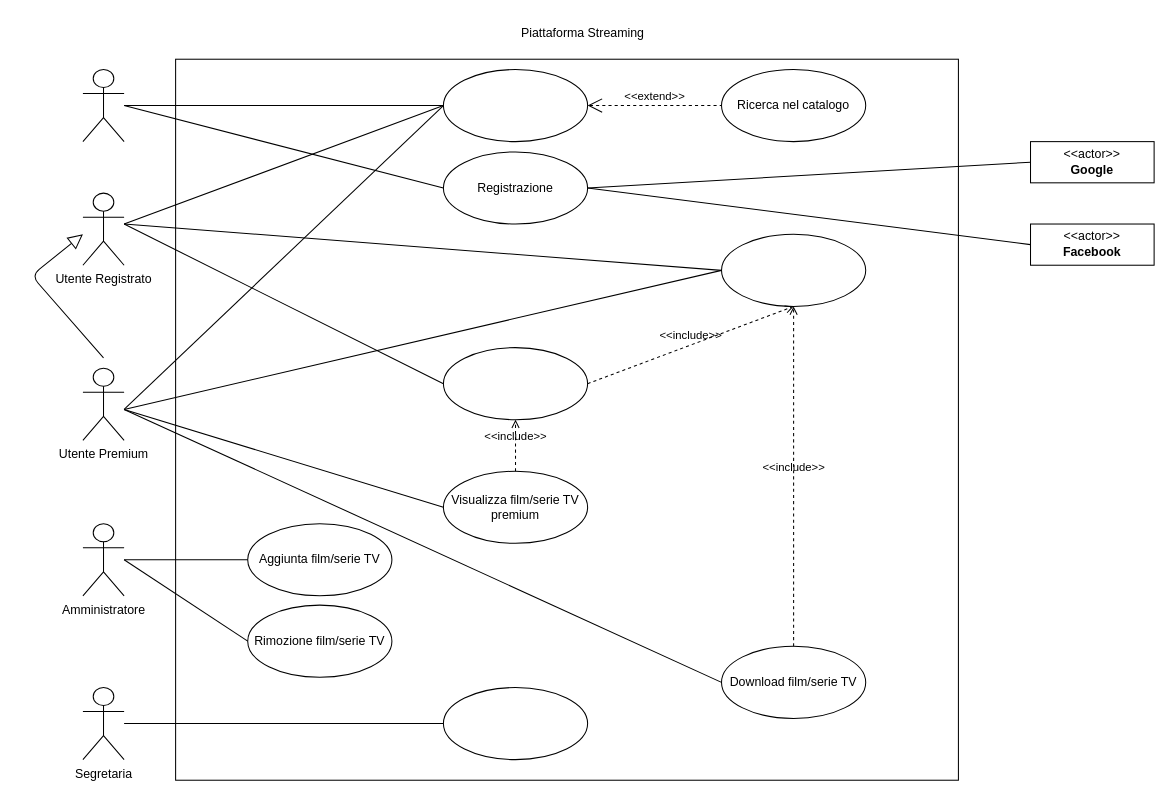
Some shapes in this 1172 by 798 pixel diagram are drawn without their labels. The centre of each missing label's shape, as x and y in pixels:
Analisi e reportistica dei pagamenti: point 515,723
Login: point 793,269
Sfoglia il catalogo: point 515,105
Utente non registrato: point 103,105
Visualizza film/serie TV base: point 515,383
